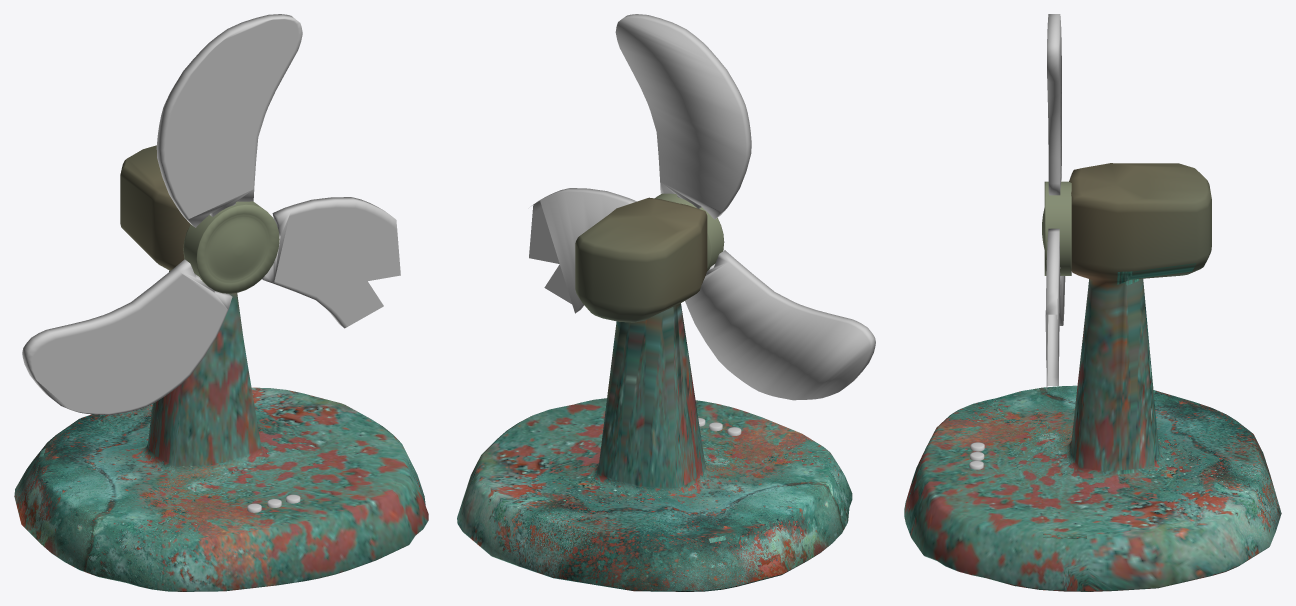
The model's file is textvent.fbx.
The picture shows the model from 3 angles, left to right: view 1: azimuth 30°, elevation 25°; view 2: azimuth 150°, elevation 25°; view 3: azimuth 270°, elevation 25°; orthographic projection. The views are drawn at different scales.
Visible parts, largest first — view 1: Cube.001, Plano, Cube.002; view 2: Cube.001, Plano, Cube.002; view 3: Cube.001, Plano, Cube.002.
Part boxes in pixels (<box>): Cube.001: <box>14,145,428,591</box>; Plano: <box>22,14,400,415</box>; Cube.002: <box>183,201,279,293</box>; Cube.001: <box>457,197,852,591</box>; Plano: <box>529,14,875,400</box>; Cube.002: <box>655,193,724,271</box>; Cube.001: <box>904,163,1281,591</box>; Plano: <box>1045,14,1065,391</box>; Cube.002: <box>1042,181,1071,275</box>.
Size of the model in its own units: 236 by 292 by 202.
